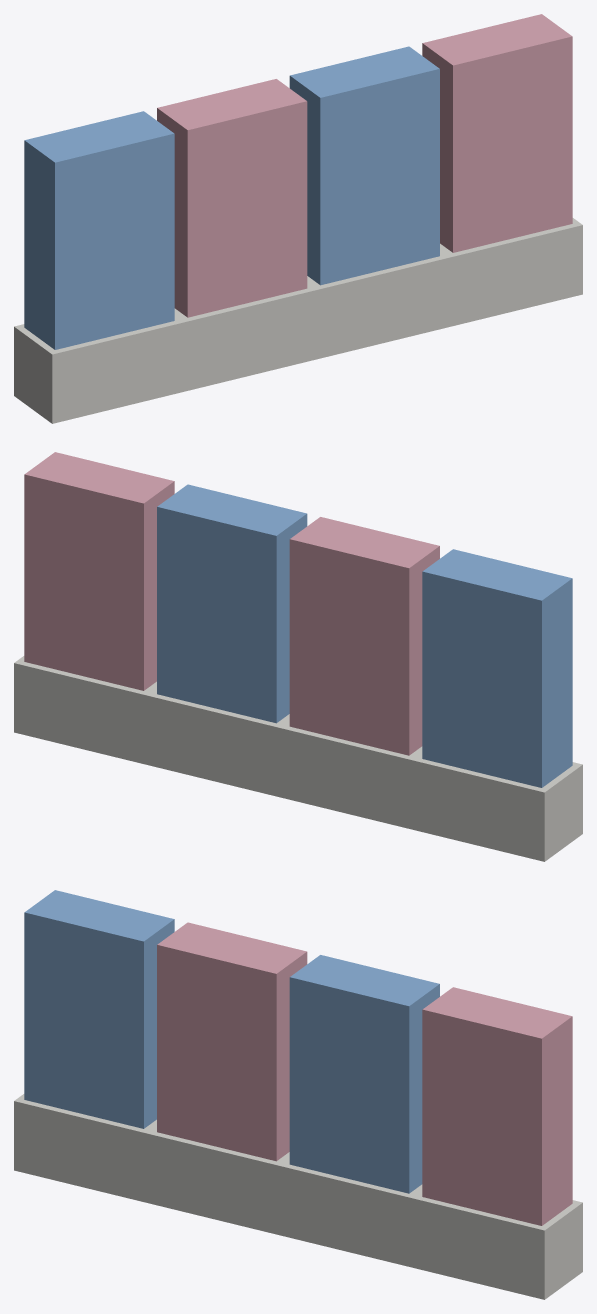
The model's file is kid_protetor.glb.
3 views of the same model, one above another, from view 1: azimuth 30°, elevation 25°; view 2: azimuth 150°, elevation 25°; view 3: azimuth 330°, elevation 25° (orthographic).
Parts seen in each view (by area): view 1: KID_PROTETOR_v01; view 2: KID_PROTETOR_v01; view 3: KID_PROTETOR_v01.
Boxes of the visible parts, box(x1,y1,x2,y2) form: KID_PROTETOR_v01: box(14, 14, 582, 423); KID_PROTETOR_v01: box(14, 452, 582, 861); KID_PROTETOR_v01: box(14, 890, 582, 1299).
Bounding box in the file's own units: 0.8 × 0.37 × 0.1.
